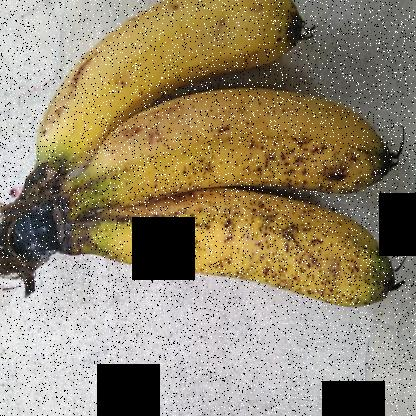freshripe: (37, 0, 311, 166)
ripe: (80, 183, 402, 318), (93, 79, 400, 210)
